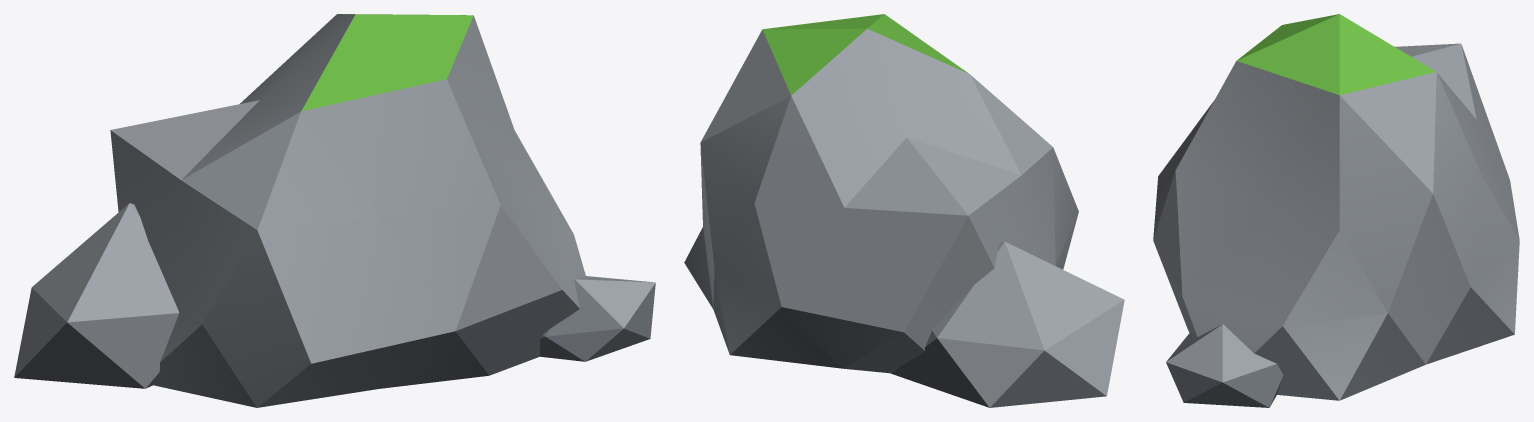
The model's file is RocaMedia.fbx.
3 views of the same model, side by side, from view 1: azimuth 30°, elevation 25°; view 2: azimuth 150°, elevation 25°; view 3: azimuth 270°, elevation 25° (orthographic). The views are drawn at different scales.
Parts seen in each view (by area): view 1: RocaMedia; view 2: RocaMedia; view 3: RocaMedia.
Part boxes in pixels (x1,y1,x2,y2): RocaMedia: [14, 14, 655, 407]; RocaMedia: [684, 14, 1124, 407]; RocaMedia: [1153, 14, 1519, 407].
Bounding box in the file's own units: 7.99 × 4.42 × 5.01.
Materials: 1 (1 with a texture image).
